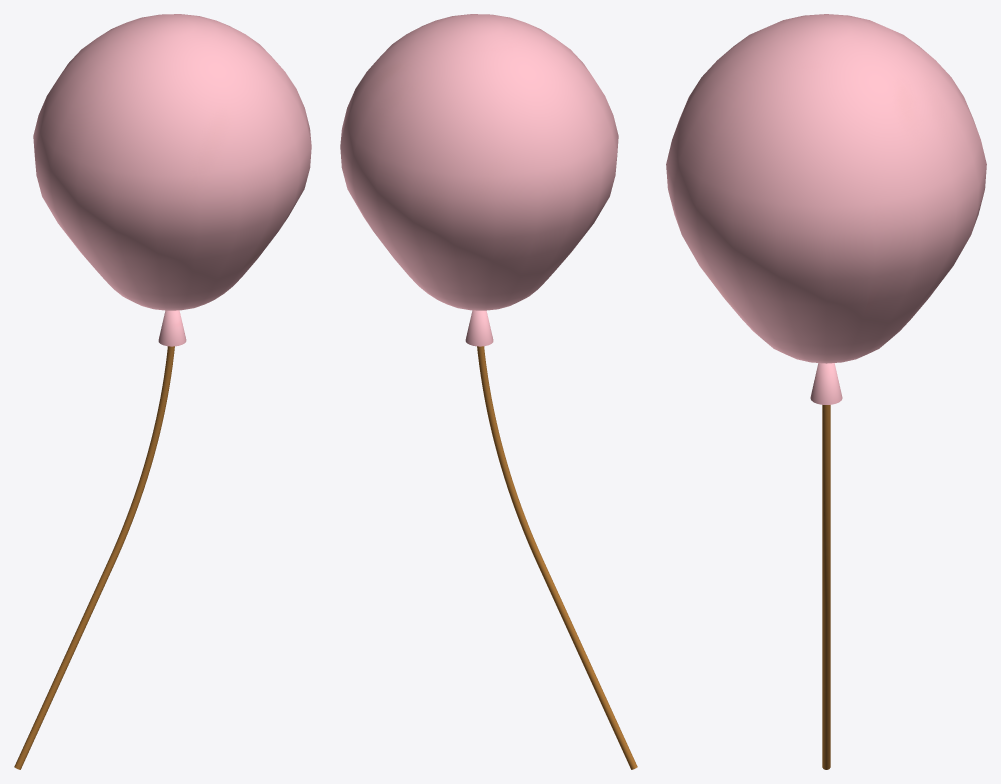
File: BalloonPink.fbx
3 views of the same model, side by side, from view 1: azimuth 30°, elevation 25°; view 2: azimuth 150°, elevation 25°; view 3: azimuth 270°, elevation 25° (orthographic). The views are drawn at different scales.
Parts seen in each view (by area): view 1: pCylinder2; view 2: pCylinder2; view 3: pCylinder2.
Part boxes in pixels (bbox=[...]): pCylinder2: bbox=[14, 14, 311, 769]; pCylinder2: bbox=[340, 14, 637, 769]; pCylinder2: bbox=[666, 14, 986, 769].
Size of the model in its own units: 11.48 by 27.67 by 9.71.
Materials: 1 (1 with a texture image).
